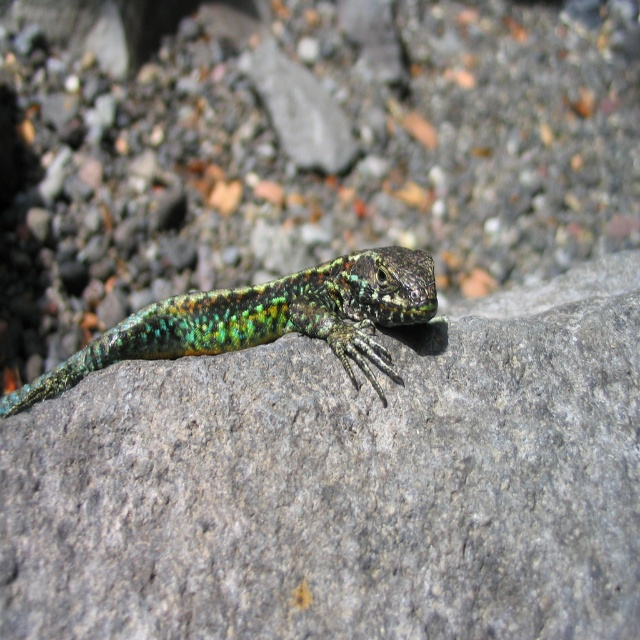Lizard: (8, 234, 436, 428)
